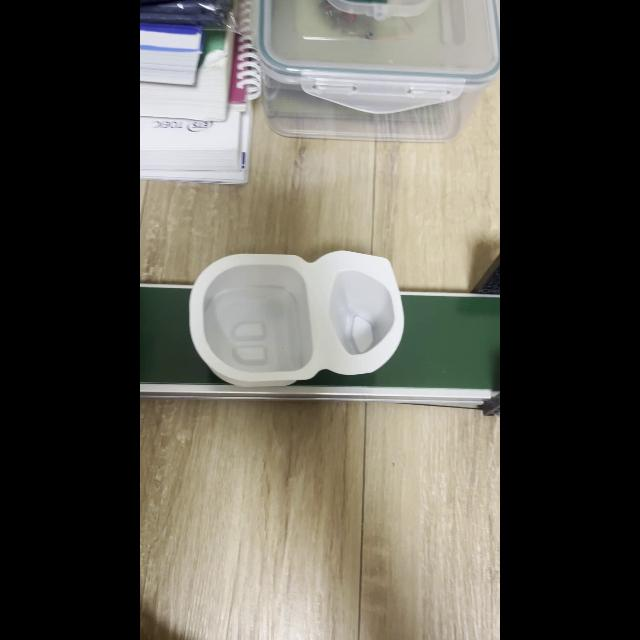clean: (192, 262, 392, 368)
